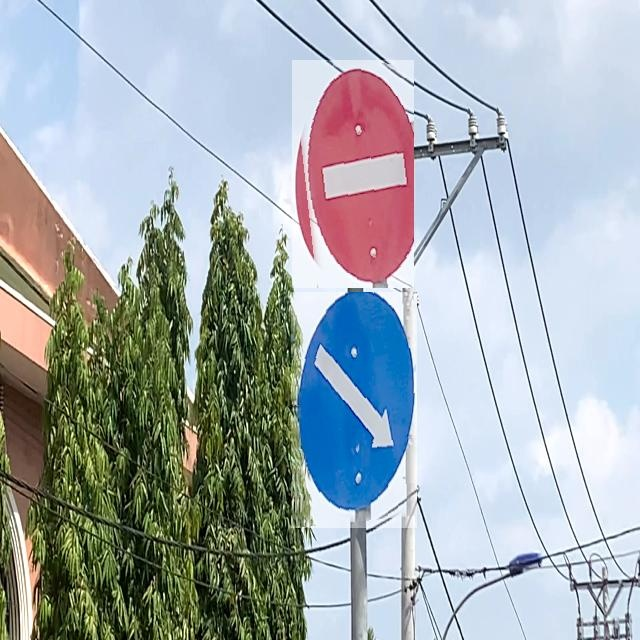bien_hieu_lenh: (291, 292, 417, 528), (292, 60, 414, 288)
